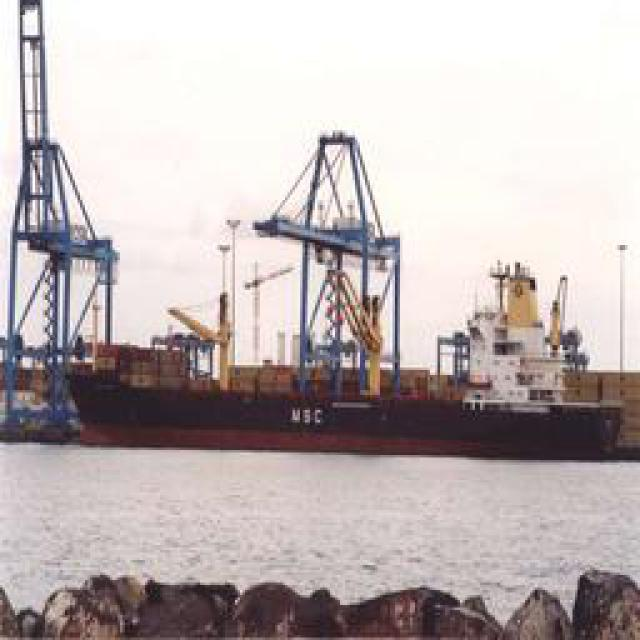Ship: (66, 141, 622, 466)
